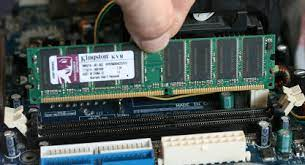ram: (26, 33, 277, 105)
